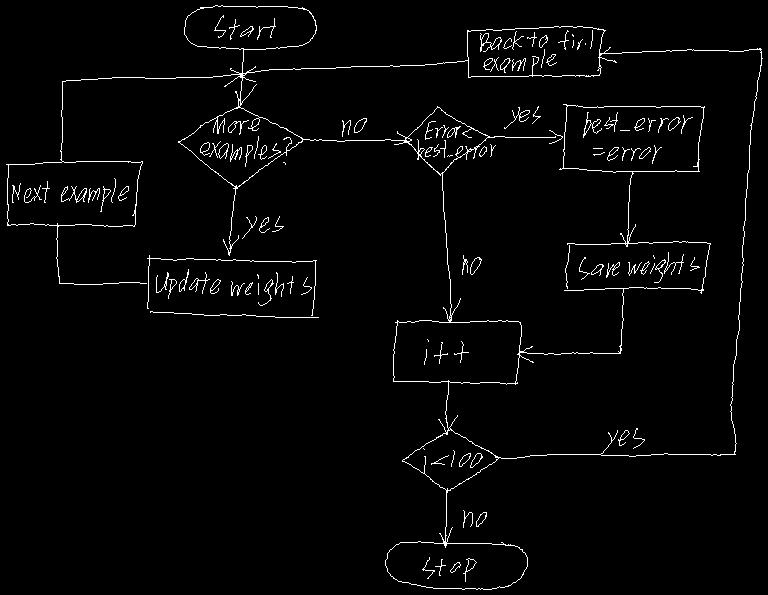arrow: (495, 47, 762, 458), (60, 68, 242, 160), (517, 288, 623, 362), (56, 223, 146, 284), (240, 60, 468, 81), (442, 172, 460, 322), (302, 131, 411, 144), (235, 49, 256, 107), (620, 172, 635, 246), (223, 185, 238, 255), (438, 380, 457, 434), (488, 130, 562, 143), (439, 490, 452, 547)
decision: (178, 106, 303, 188), (402, 428, 498, 492), (404, 106, 489, 175)
process: (147, 255, 318, 317), (559, 104, 704, 172), (6, 161, 142, 226), (393, 320, 521, 384), (564, 241, 710, 293), (467, 26, 605, 77)
terminator: (385, 541, 527, 589), (184, 5, 316, 49)
text: (156, 269, 311, 305), (583, 112, 692, 163), (480, 30, 592, 76), (200, 116, 291, 166), (12, 178, 128, 211), (579, 252, 699, 282), (417, 121, 495, 159), (214, 15, 275, 39), (423, 448, 482, 472), (422, 557, 476, 581), (424, 339, 468, 364), (601, 428, 644, 453), (242, 216, 283, 238), (504, 106, 540, 128), (342, 118, 366, 136), (463, 510, 486, 527), (462, 255, 481, 274)
